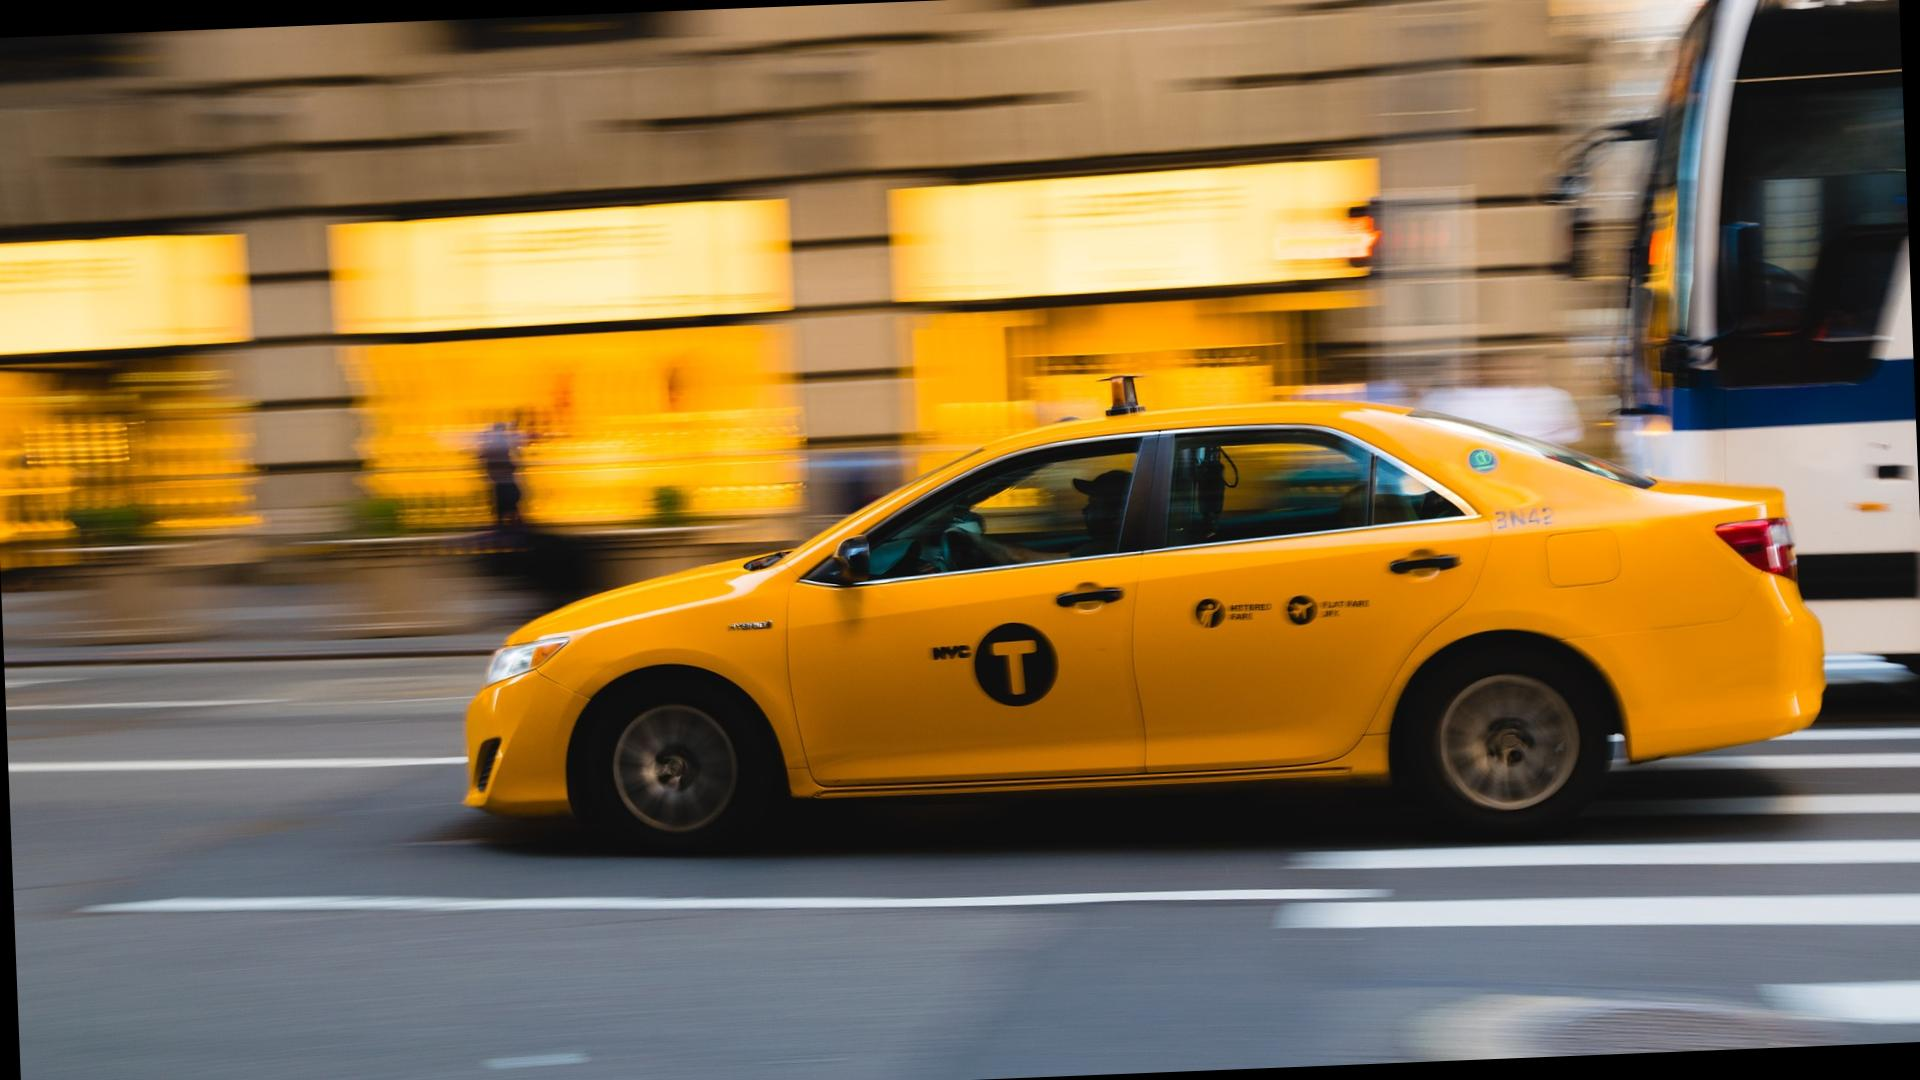taxi: (433, 388, 1855, 847)
